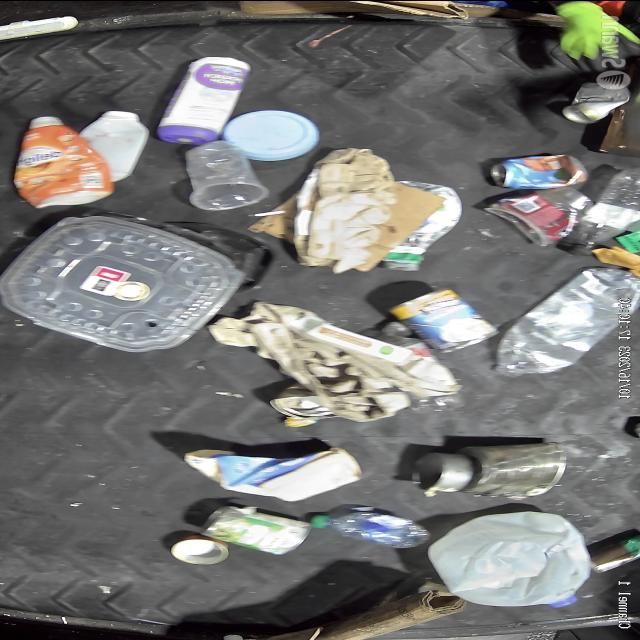can: (386, 285, 494, 351), (209, 506, 313, 552), (489, 154, 589, 186), (558, 80, 630, 122), (172, 536, 230, 564)
milk_jug: (458, 516, 592, 608)
plastic_bottle: (492, 265, 640, 375), (568, 167, 640, 257)
